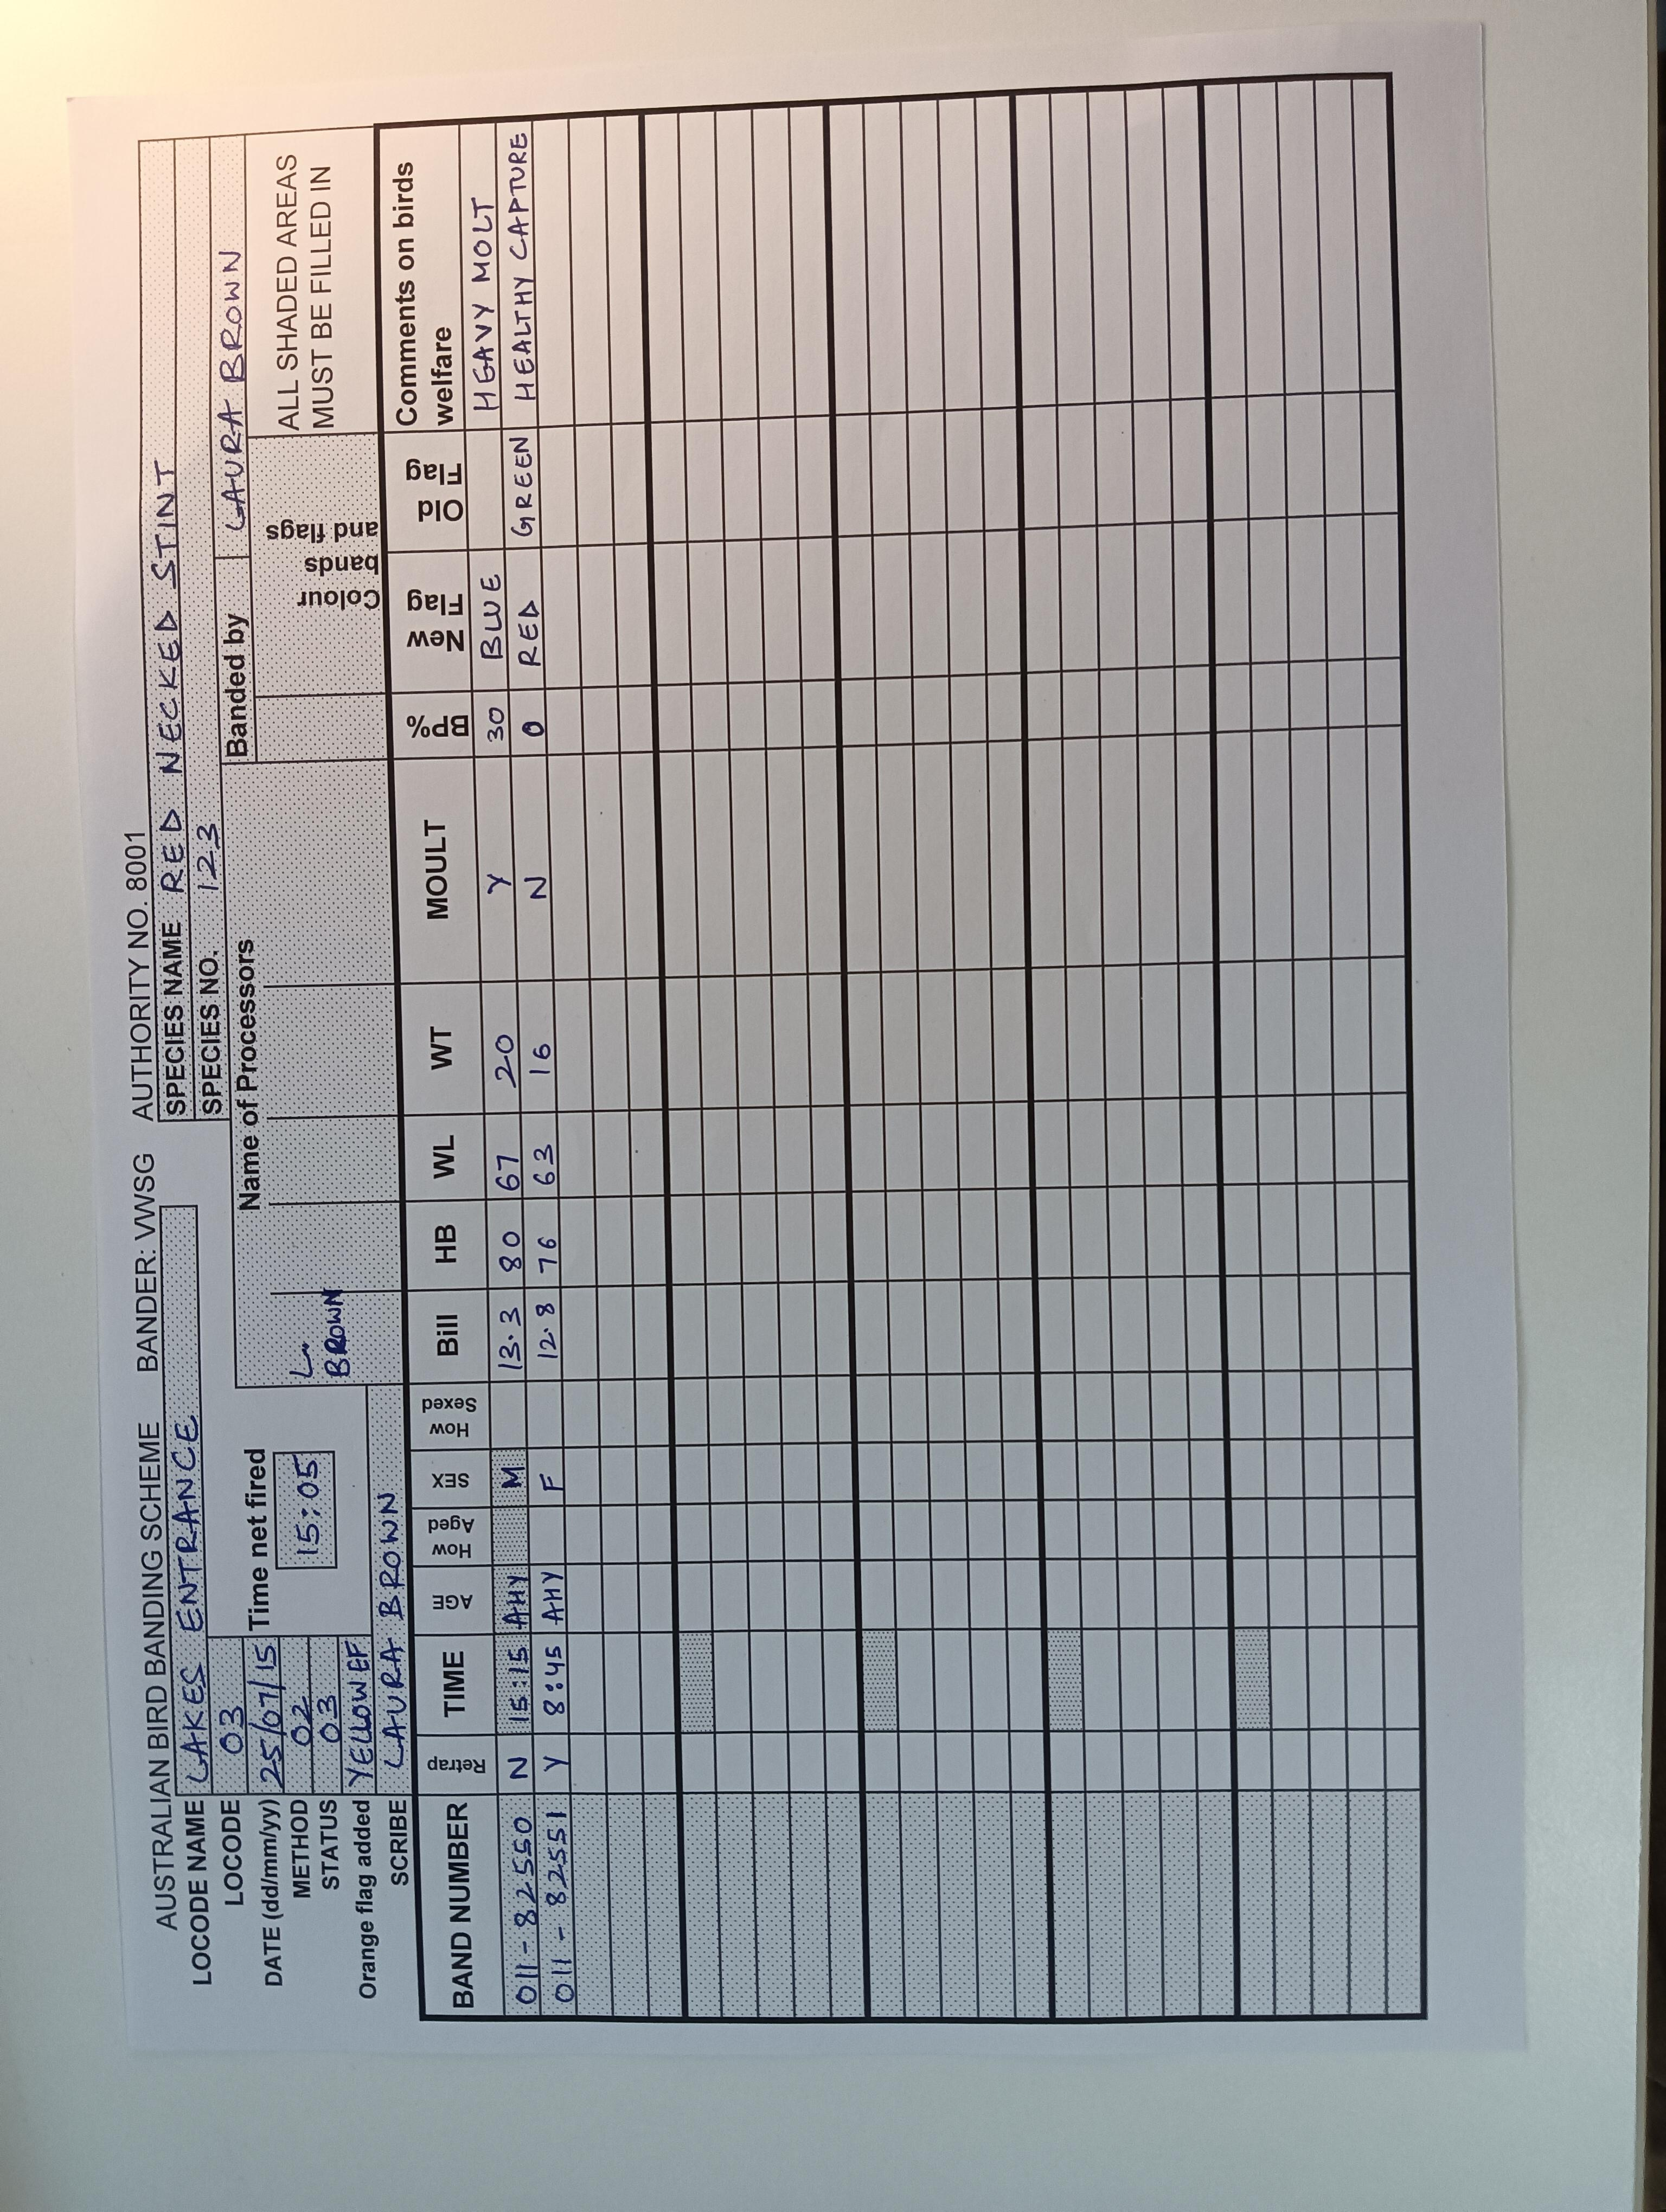BANDED_BY: (210, 133, 257, 764)
DATA: (497, 119, 579, 2016), (462, 119, 542, 2021)
DATE: (247, 1635, 292, 2000)
LOCOCODE: (212, 1631, 257, 1922)
LOCOCODE_NAME: (159, 1208, 231, 2007)
METHOD: (283, 1637, 320, 1913)
NAME_OF_PROCESSORS: (249, 1290, 406, 1388)
ORANGE_FLAG_ADDED: (341, 1633, 385, 2004)
SCRIBE: (366, 1380, 416, 1913)
SPECIES_NAME: (142, 140, 191, 1128)
SPECIES_NO: (173, 136, 235, 1124)
STATUS: (313, 1635, 348, 1916)
TIME_NET_FIRED: (229, 1422, 355, 1631)
